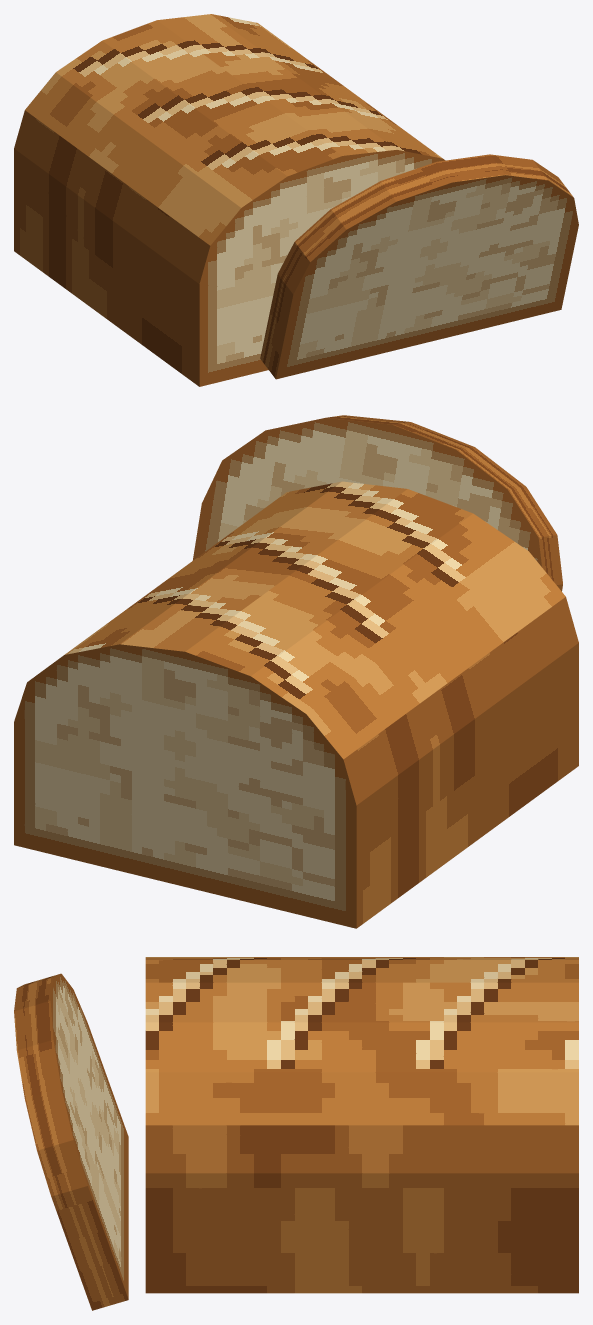
Rendered from produce-bread.glb.
3 renders of one model, top to bottom at view 1: azimuth 30°, elevation 25°; view 2: azimuth 150°, elevation 25°; view 3: azimuth 270°, elevation 25°, orthographic. The views are drawn at different scales.
Visible parts, largest first — view 1: produce.bread; view 2: produce.bread; view 3: produce.bread.
Part boxes in pixels (x1,y1,x2,y2): produce.bread: (14, 14, 578, 386); produce.bread: (14, 415, 578, 928); produce.bread: (14, 957, 578, 1310).
Size of the model in its own units: 1.18 by 0.689 by 1.46.
3 materials, 3 textured.
